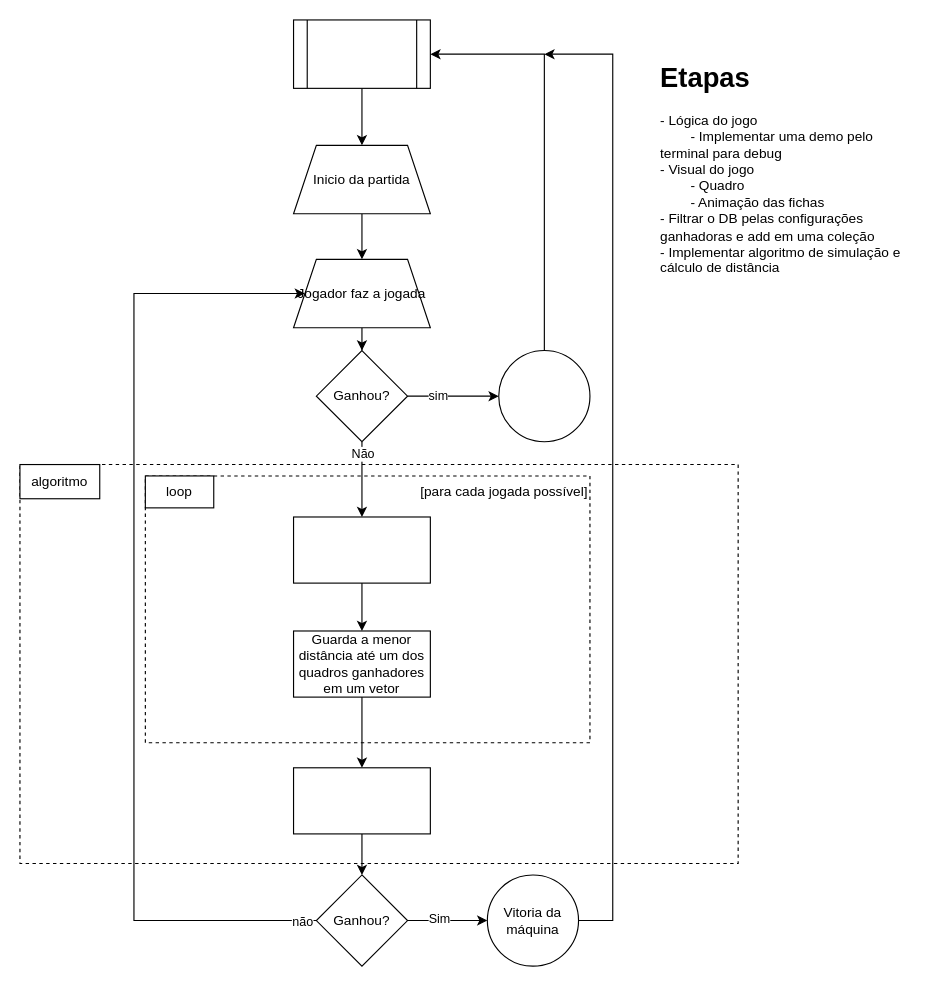
Some shapes in this 941 by 986 pixel diagram are drawn without their labels. Here are the shapes that lost their labels. From the top down, the centre of each, then its label:
At point (361, 53): "Tela inicial".
At point (544, 395): "Vitoria do jogador".
At point (361, 549): "Monta um quadro simulado com sua jogada".
At point (361, 800): "Faz a jogada correspondente a menor distância".
